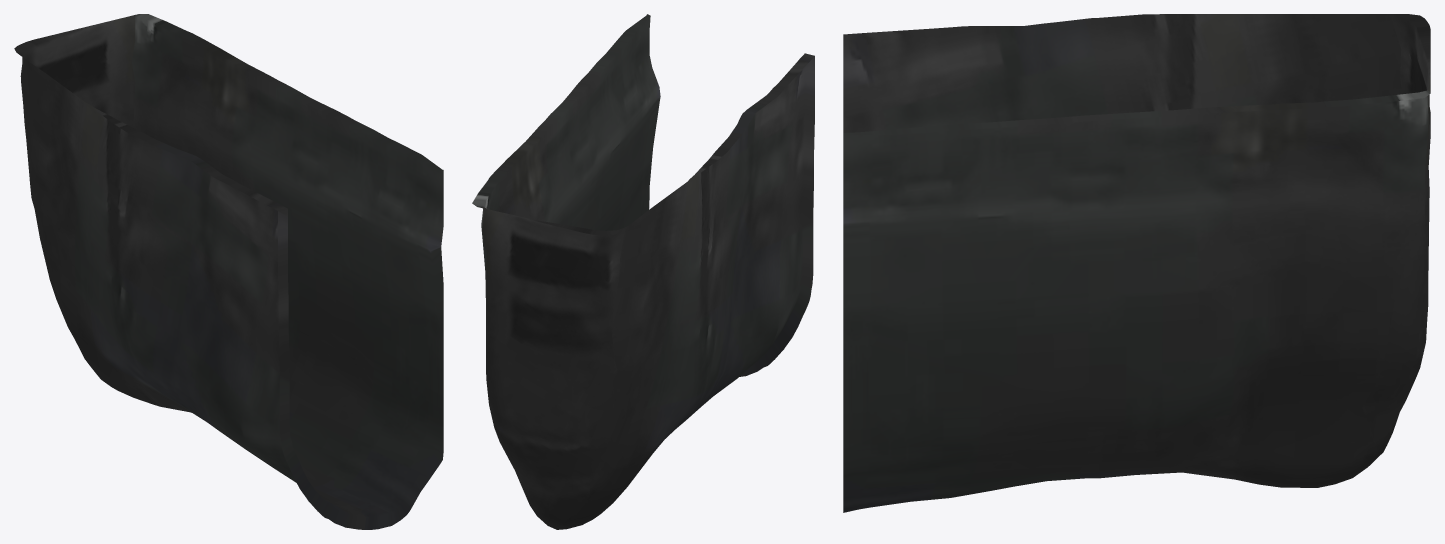
The model's file is z20-167754-405240-h0-yup-uvflip-v3-world.glb.
3 views of the same model, side by side, from view 1: azimuth 30°, elevation 25°; view 2: azimuth 150°, elevation 25°; view 3: azimuth 270°, elevation 25° (orthographic). The views are drawn at different scales.
Bounding box in the file's own units: 9.68 × 15.92 × 19.88.
1 material, 1 textured.
